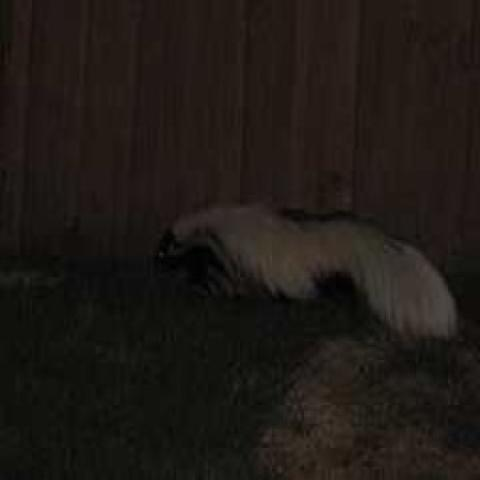small_animal: (152, 197, 463, 345)
